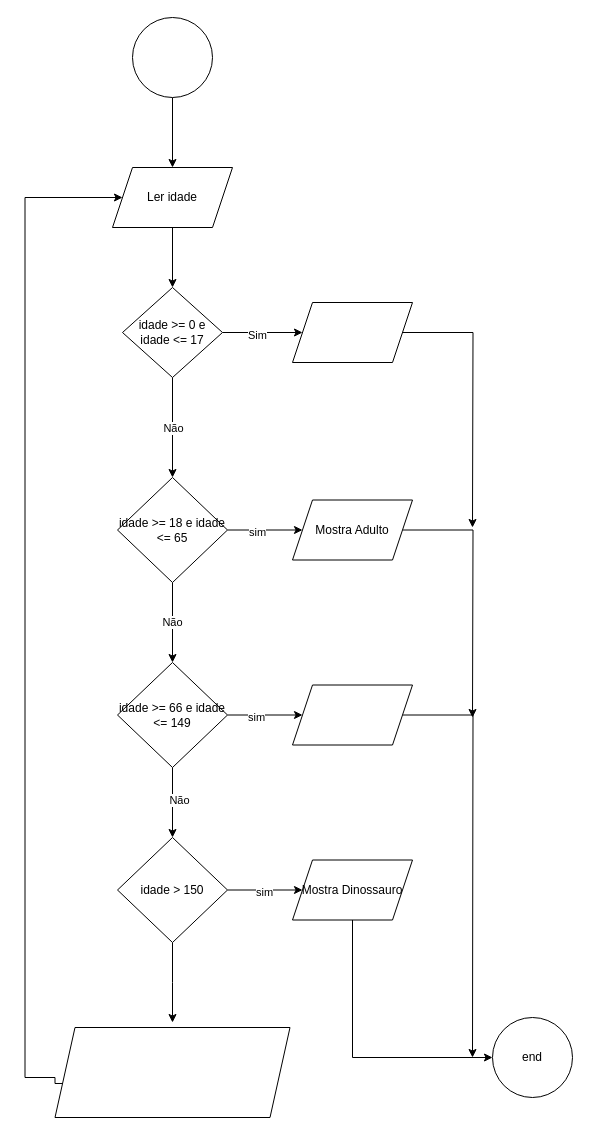
The diagram is 590 pixels wide and 1135 high, and some of its shapes have lost their labels. Each missing label, with the centre of its shape:
"inicio" goes at point (172, 57).
"Meteste água. Aguarda processo de secagem." goes at point (172, 1072).
"Mostra Puto" goes at point (352, 332).
"Mostra Velhinho" goes at point (352, 714).
